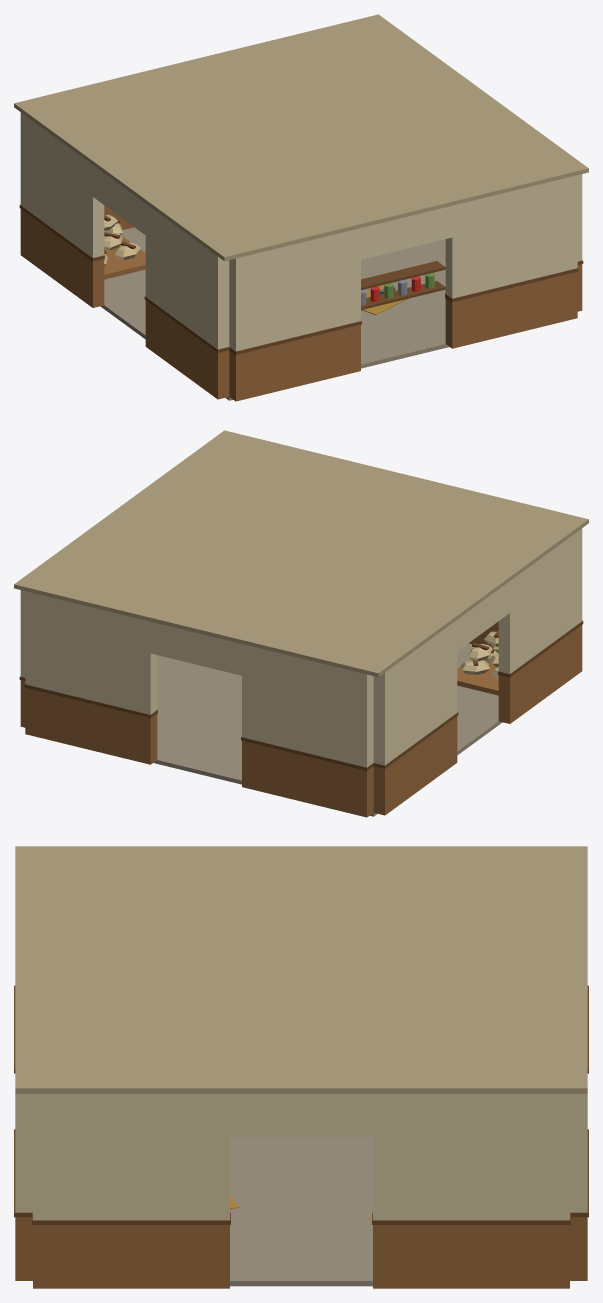
Rendered from room_zoology_feed_storage.glb.
3 views of the same model, one above another, from view 1: azimuth 30°, elevation 25°; view 2: azimuth 150°, elevation 25°; view 3: azimuth 270°, elevation 25° (orthographic). The views are drawn at different scales.
Visible parts, largest first — view 1: room_zoology_feed_storage; view 2: room_zoology_feed_storage; view 3: room_zoology_feed_storage.
Part boxes in pixels (x1,y1,x2,y2): room_zoology_feed_storage: (14,14,588,401); room_zoology_feed_storage: (14,430,588,817); room_zoology_feed_storage: (14,846,588,1288).
Size of the model in its own units: 9.62 by 3.8 by 9.64.
1 material, 1 textured.
